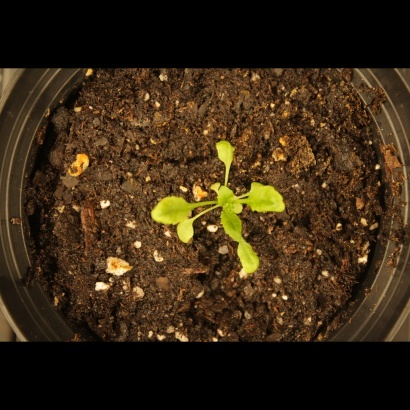leaf: (248, 177, 290, 221), (141, 194, 195, 225), (215, 207, 249, 244), (229, 244, 267, 277), (206, 137, 240, 167), (213, 184, 242, 210), (175, 218, 201, 246)
